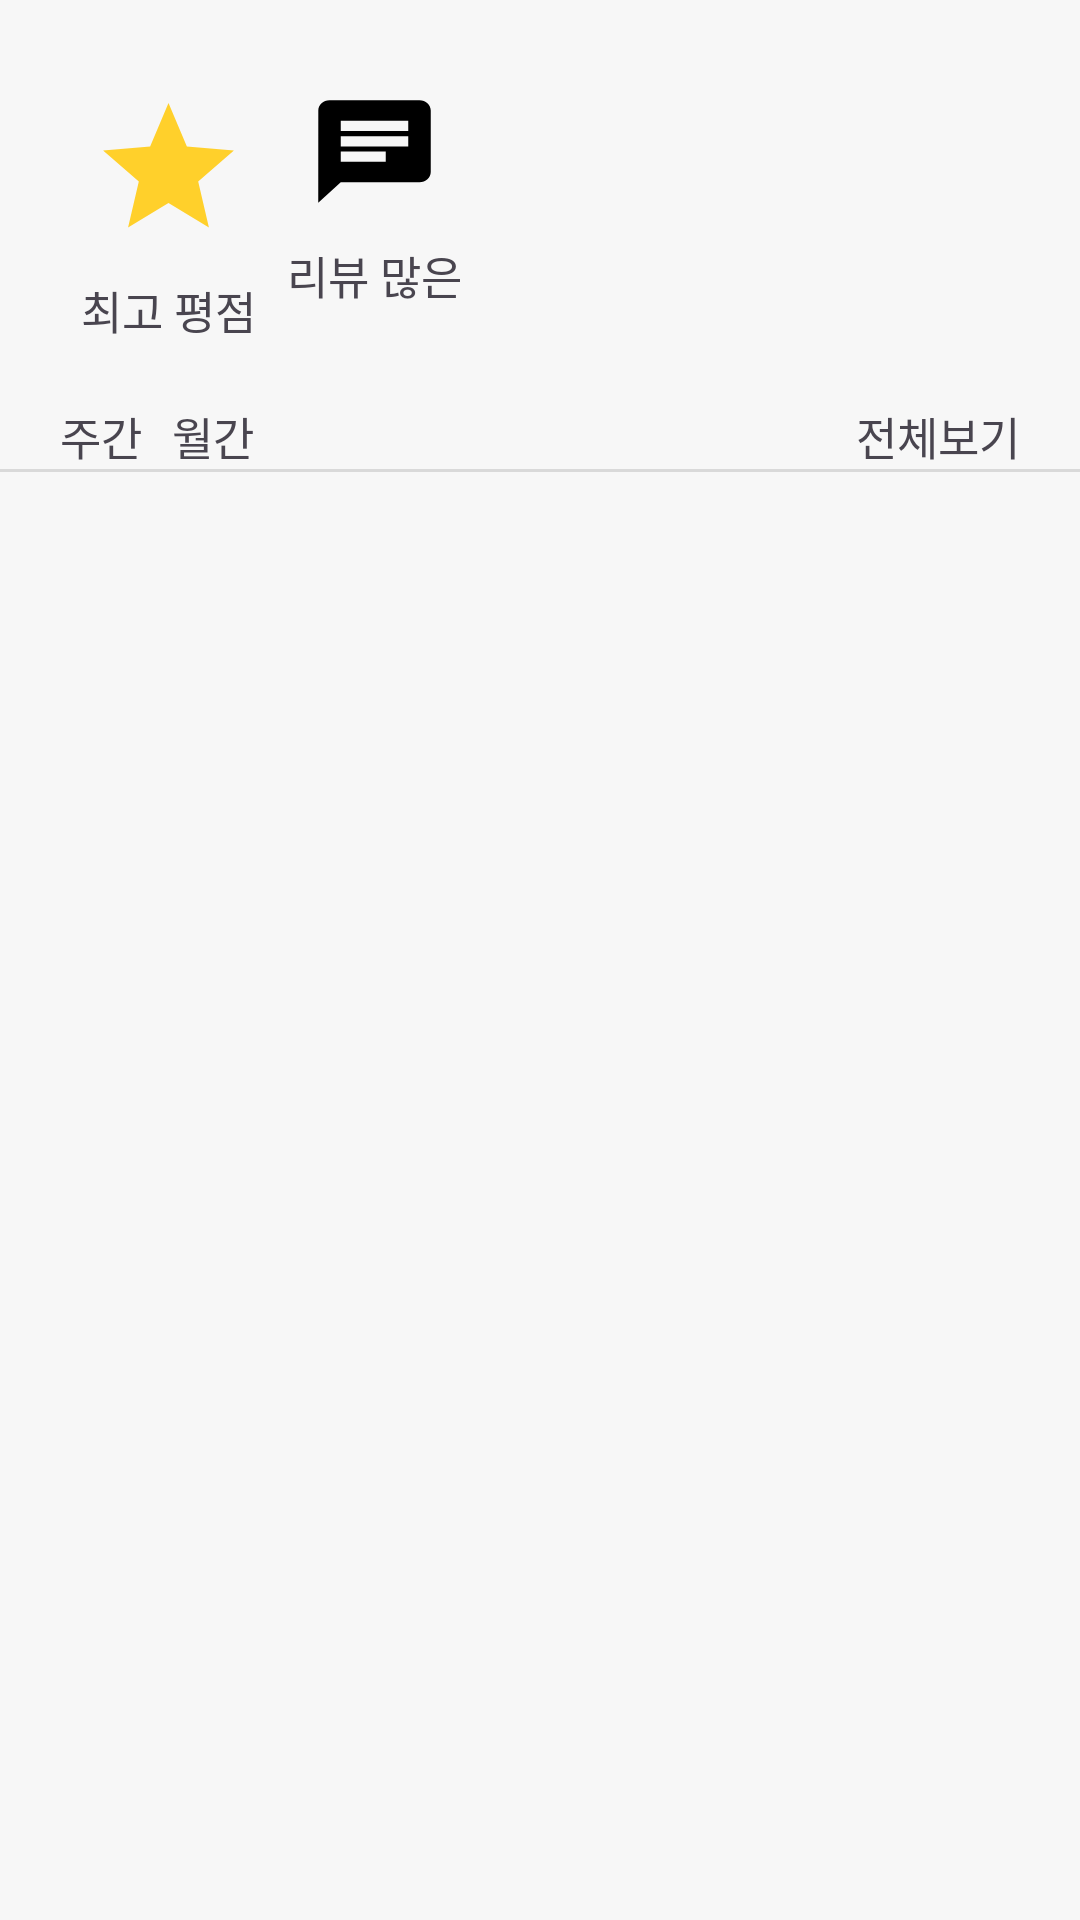

Icons on this 1080px×1920px Android screen, each with the point to tap as (x=x, y=y):
Highestscore Imagebutton: (x=168, y=165)
MostReviews Imagebutton: (x=374, y=151)
